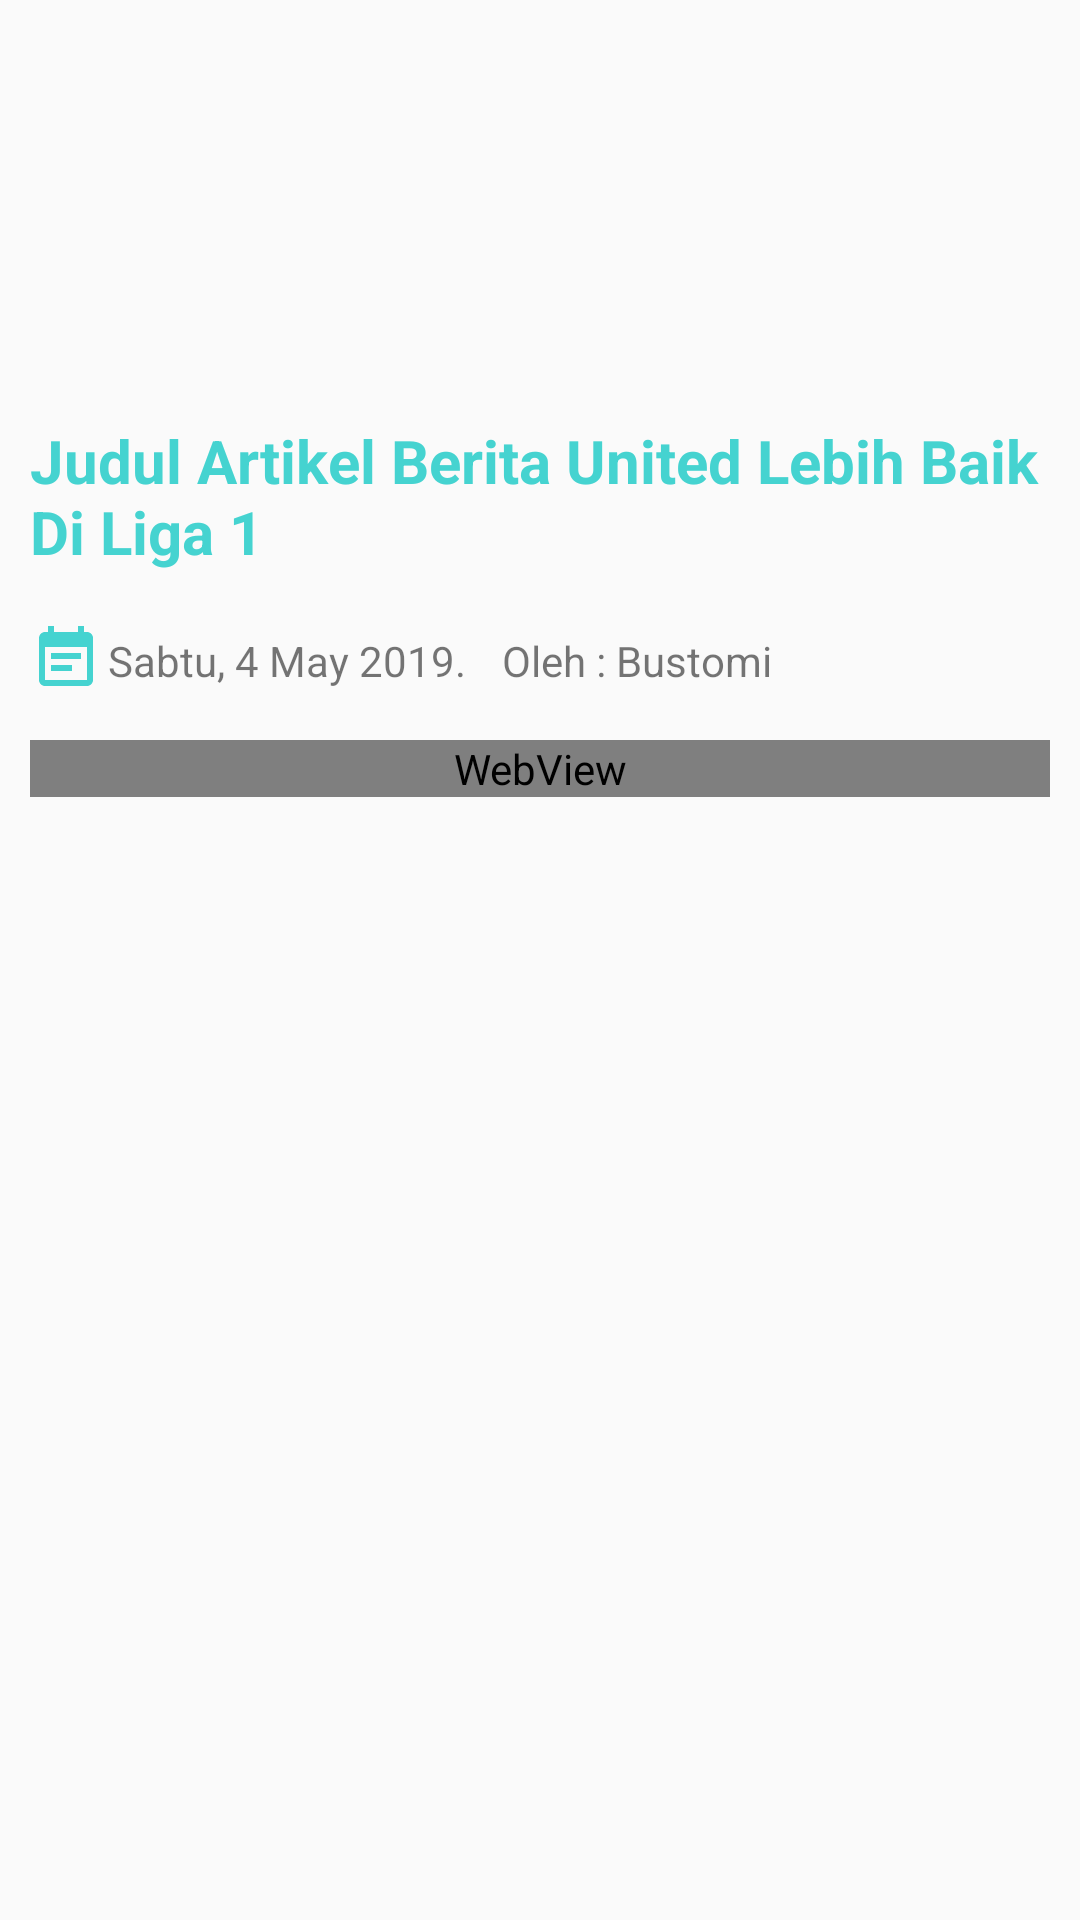

Icons on this 1080w x 1920h Android screen, each with the point to tap as (x=x, y=y):
event note: (x=66, y=656)
